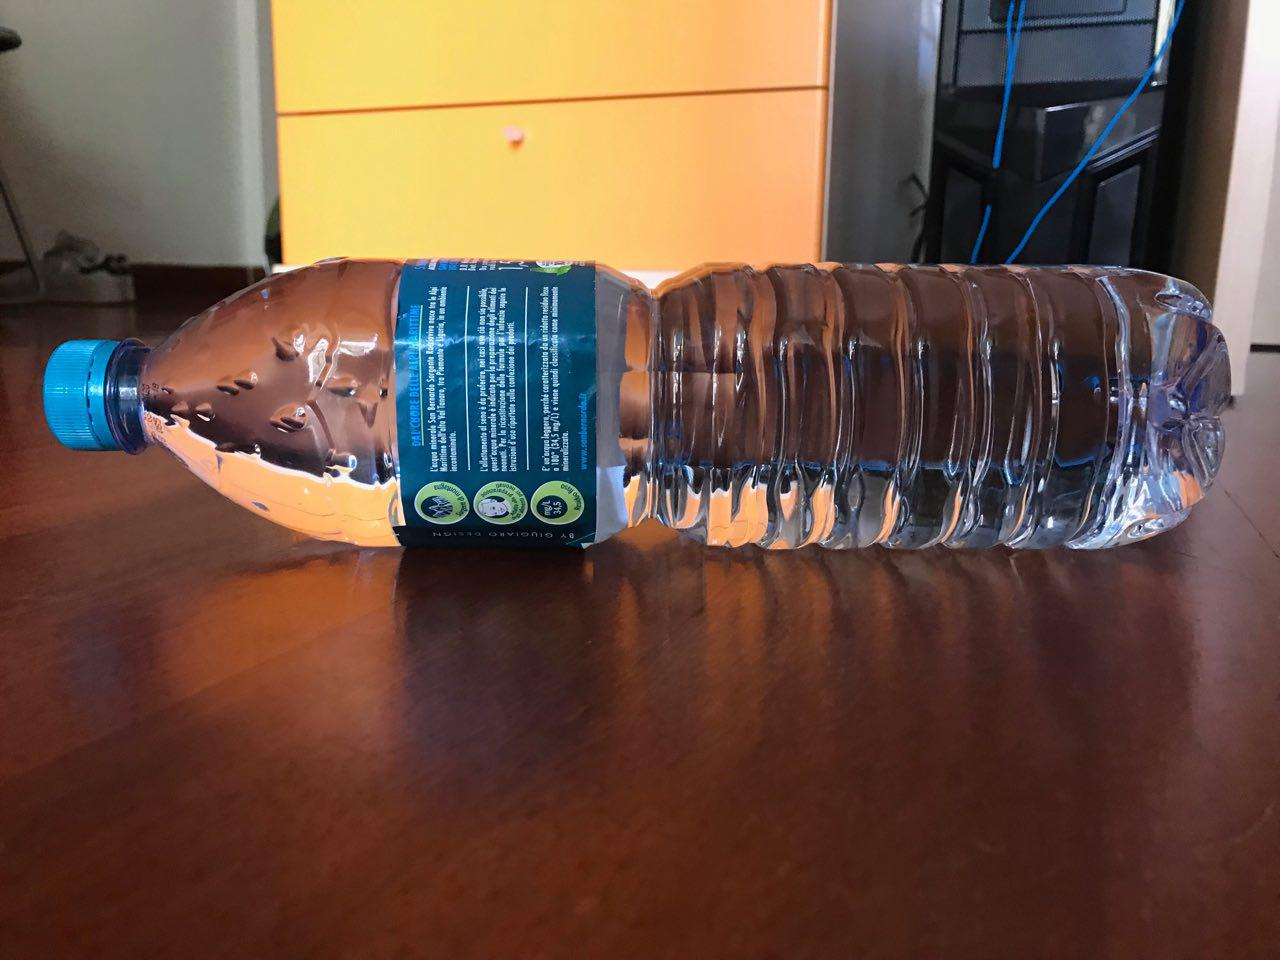san_bernardo: (40, 252, 1234, 554)
